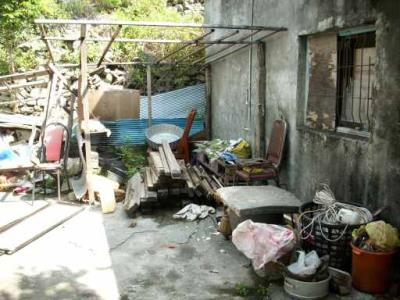bowl: (281, 271, 334, 298), (144, 121, 185, 152)
box: (88, 86, 141, 121)
bucket: (349, 240, 394, 293)
plastic_bag: (233, 220, 295, 273), (362, 218, 394, 250)
